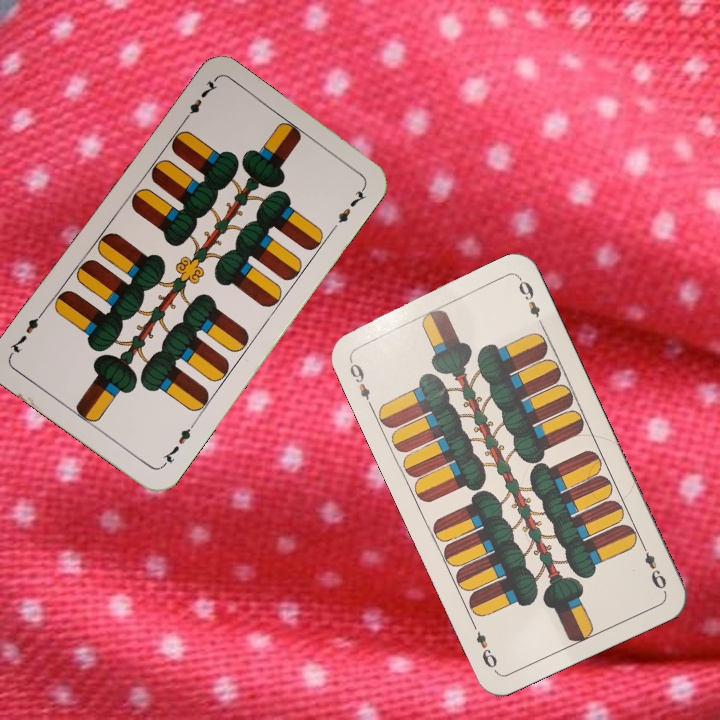E7: (178, 76, 220, 127), (157, 419, 198, 470)
E9: (637, 539, 669, 594), (345, 354, 375, 410)
